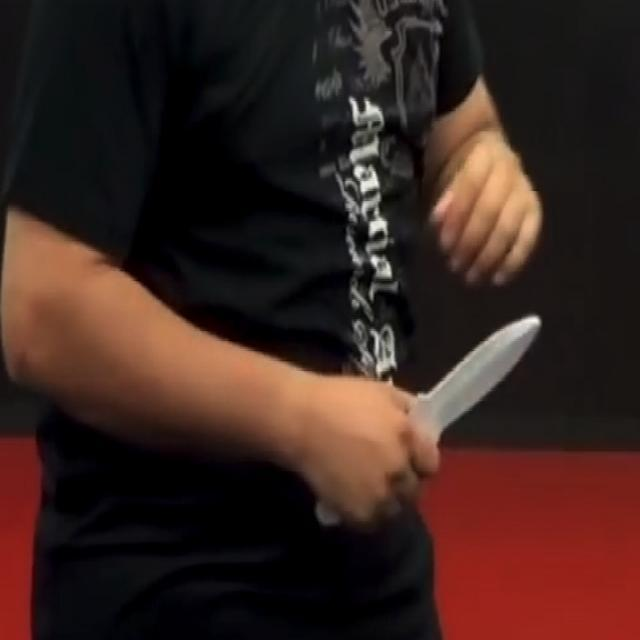suspicion: (2, 6, 549, 538), (413, 309, 545, 433), (312, 501, 344, 528)
